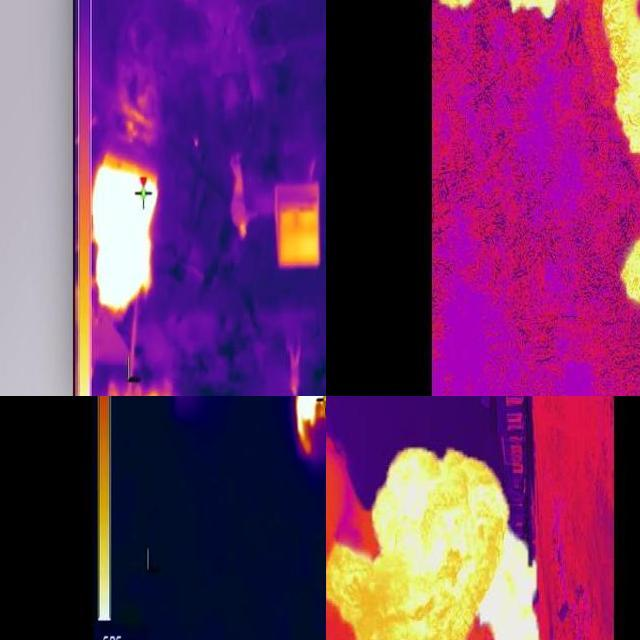fire: (328, 442, 525, 640), (92, 164, 160, 312), (600, 2, 639, 157), (435, 1, 565, 26), (293, 397, 327, 457), (614, 230, 640, 308)
